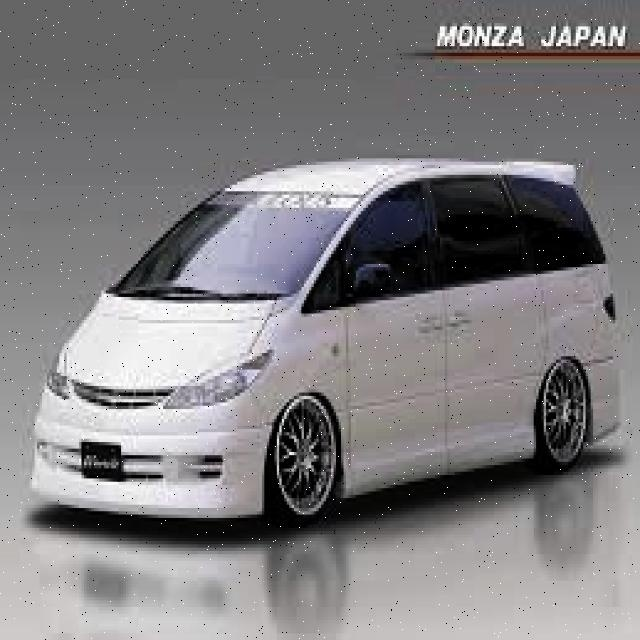Van: (32, 155, 628, 528)
